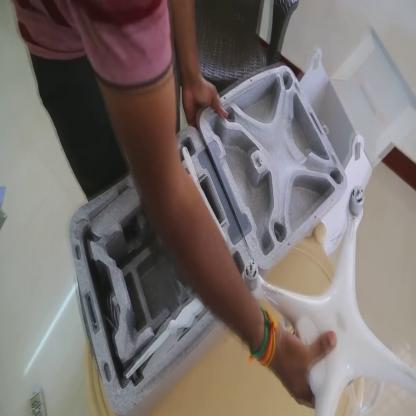drone: (231, 186, 416, 415)
